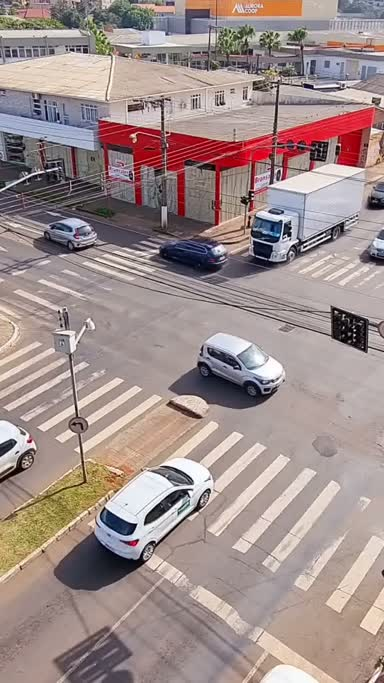car: (93, 455, 222, 568), (193, 324, 290, 405), (147, 229, 229, 283), (1, 415, 36, 485), (44, 217, 98, 254), (364, 217, 384, 262)
truck: (251, 158, 371, 265)
